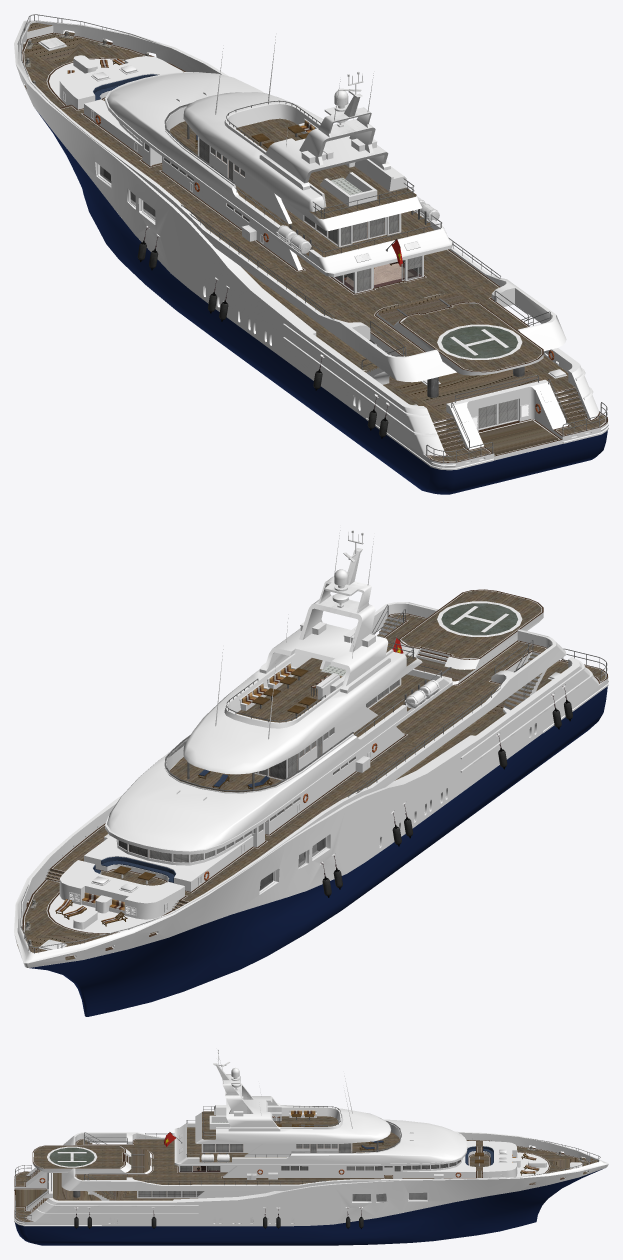
The model's file is yacht-frickie.glb.
3 views of the same model, one above another, from view 1: azimuth 30°, elevation 25°; view 2: azimuth 150°, elevation 25°; view 3: azimuth 270°, elevation 25° (orthographic). The views are drawn at different scales.
Visible parts, largest first — view 1: Object_7, Object_11, Object_15, Object_6, Object_13, Object_50, Object_9, Object_64, Object_52, Object_56, Object_42; view 2: Object_7, Object_15, Object_11, Object_6, Object_13, Object_50, Object_9, Object_64, Object_52, Object_88, Object_68, Object_90 (+1 smaller); view 3: Object_7, Object_15, Object_11, Object_6, Object_9, Object_13, Object_64, Object_50, Object_52, Object_88, Object_56.
Boxes of the visible parts, left/top/right/bottom form: Object_7: left=14, top=20, right=608, bottom=470; Object_11: left=23, top=23, right=605, bottom=461; Object_15: left=36, top=110, right=607, bottom=494; Object_6: left=38, top=36, right=608, bottom=466; Object_13: left=20, top=14, right=607, bottom=462; Object_50: left=22, top=32, right=607, bottom=462; Object_9: left=100, top=105, right=516, bottom=428; Object_64: left=141, top=138, right=516, bottom=428; Object_52: left=441, top=326, right=518, bottom=358; Object_56: left=137, top=243, right=388, bottom=436; Object_42: left=187, top=154, right=413, bottom=286; Object_7: left=14, top=589, right=608, bottom=967; Object_15: left=29, top=686, right=607, bottom=1016; Object_11: left=17, top=590, right=605, bottom=960; Object_6: left=38, top=530, right=608, bottom=950; Object_13: left=20, top=604, right=607, bottom=953; Object_50: left=22, top=589, right=607, bottom=957; Object_9: left=118, top=680, right=398, bottom=890; Object_64: left=119, top=672, right=398, bottom=862; Object_52: left=441, top=603, right=517, bottom=635; Object_88: left=55, top=668, right=316, bottom=926; Object_68: left=56, top=664, right=328, bottom=922; Object_90: left=93, top=769, right=269, bottom=882; Object_7: left=14, top=1096, right=608, bottom=1226; Object_15: left=15, top=1169, right=602, bottom=1245; Object_11: left=16, top=1111, right=598, bottom=1221; Object_6: left=14, top=1049, right=582, bottom=1224; Object_9: left=138, top=1122, right=460, bottom=1201; Object_13: left=15, top=1106, right=600, bottom=1221; Object_64: left=138, top=1143, right=460, bottom=1197; Object_50: left=14, top=1139, right=590, bottom=1221; Object_52: left=49, top=1147, right=94, bottom=1166; Object_88: left=276, top=1114, right=539, bottom=1175; Object_56: left=74, top=1218, right=363, bottom=1227.
Bounding box in the file's own units: 0.4383 × 0.6301 × 1.98.
44 materials, 39 textured.
